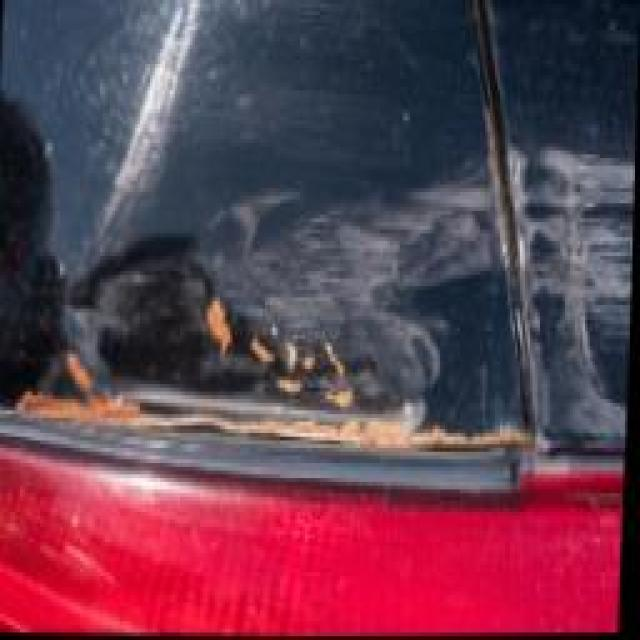Dickey: (0, 4, 512, 460)
Fender: (528, 11, 640, 438)
